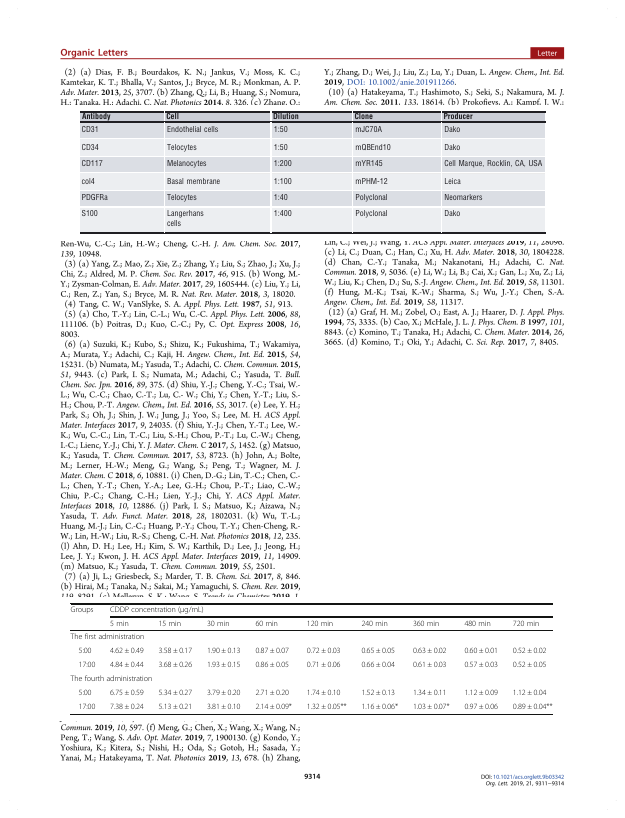borderless: (80, 110, 546, 232), (69, 602, 553, 714)
cell: (443, 159, 543, 169), (109, 606, 205, 615), (70, 674, 153, 684), (165, 209, 204, 229), (70, 632, 145, 642), (165, 177, 221, 186), (165, 125, 219, 134), (165, 159, 207, 169), (306, 702, 347, 712), (512, 702, 553, 712), (443, 193, 483, 203), (254, 702, 293, 712), (360, 702, 399, 712), (412, 702, 450, 712), (109, 646, 145, 656), (157, 646, 193, 656), (254, 646, 290, 656), (360, 646, 396, 656), (463, 646, 499, 656), (109, 660, 145, 670), (157, 660, 193, 670), (254, 660, 290, 670), (360, 660, 396, 670), (463, 660, 499, 670), (109, 688, 145, 698), (157, 688, 193, 698), (254, 688, 290, 698), (360, 688, 396, 698), (463, 688, 499, 698), (109, 702, 145, 712), (157, 702, 193, 712), (463, 702, 499, 712), (206, 646, 241, 656), (306, 646, 341, 656), (412, 646, 447, 656), (512, 646, 547, 656), (206, 660, 241, 670), (306, 660, 341, 670), (412, 660, 447, 670), (512, 660, 547, 670), (206, 688, 241, 698), (306, 688, 341, 698), (412, 688, 447, 698), (512, 688, 547, 698), (206, 702, 241, 712), (354, 193, 388, 203), (354, 209, 388, 219), (354, 143, 391, 152), (165, 193, 197, 203), (80, 112, 111, 122), (442, 112, 473, 122), (354, 177, 388, 186), (354, 159, 383, 169), (165, 143, 197, 152), (271, 112, 299, 122), (80, 193, 108, 203), (360, 619, 389, 628), (463, 619, 492, 628), (354, 125, 382, 134), (306, 619, 334, 628), (412, 619, 440, 628), (512, 619, 540, 628), (80, 159, 103, 169), (157, 619, 182, 628), (254, 619, 279, 628), (70, 606, 94, 615), (206, 619, 230, 628), (353, 112, 373, 122), (272, 159, 292, 169), (272, 209, 292, 219), (77, 660, 96, 670), (77, 702, 96, 712), (109, 619, 130, 628), (272, 177, 292, 186), (80, 209, 98, 219), (443, 209, 461, 219), (80, 125, 99, 134), (80, 143, 99, 152), (443, 125, 461, 134), (443, 143, 461, 152), (443, 177, 461, 186), (272, 193, 288, 203), (77, 646, 92, 656), (77, 688, 92, 698), (272, 125, 288, 134), (272, 143, 288, 152), (165, 112, 179, 122), (80, 177, 95, 186)
